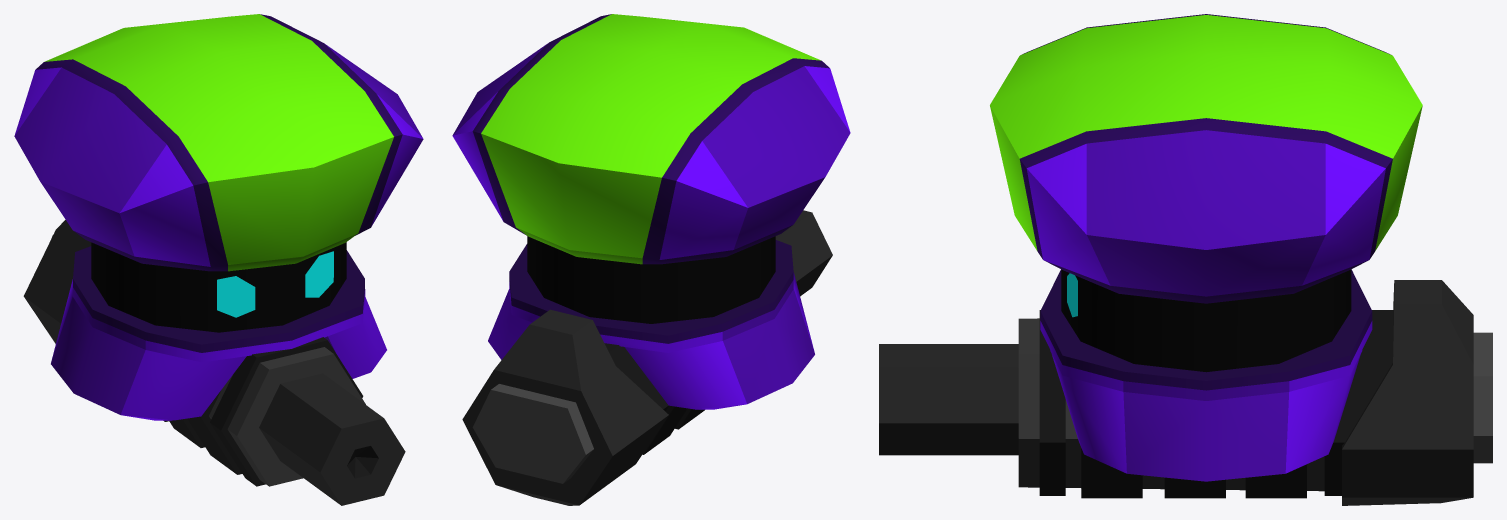
Rendered from DroneMinigun.glb.
3 views of the same model, side by side, from view 1: azimuth 30°, elevation 25°; view 2: azimuth 150°, elevation 25°; view 3: azimuth 270°, elevation 25° (orthographic). The views are drawn at different scales.
Parts seen in each view (by area): view 1: DroneMinigun; view 2: DroneMinigun; view 3: DroneMinigun.
Boxes of the visible parts, left/top/right/bottom form: DroneMinigun: left=14, top=14, right=423, bottom=505; DroneMinigun: left=452, top=14, right=850, bottom=505; DroneMinigun: left=879, top=14, right=1492, bottom=505.
Size of the model in its own units: 0.6735 by 0.7005 by 0.8809.
Materials: 1 (1 with a texture image).
